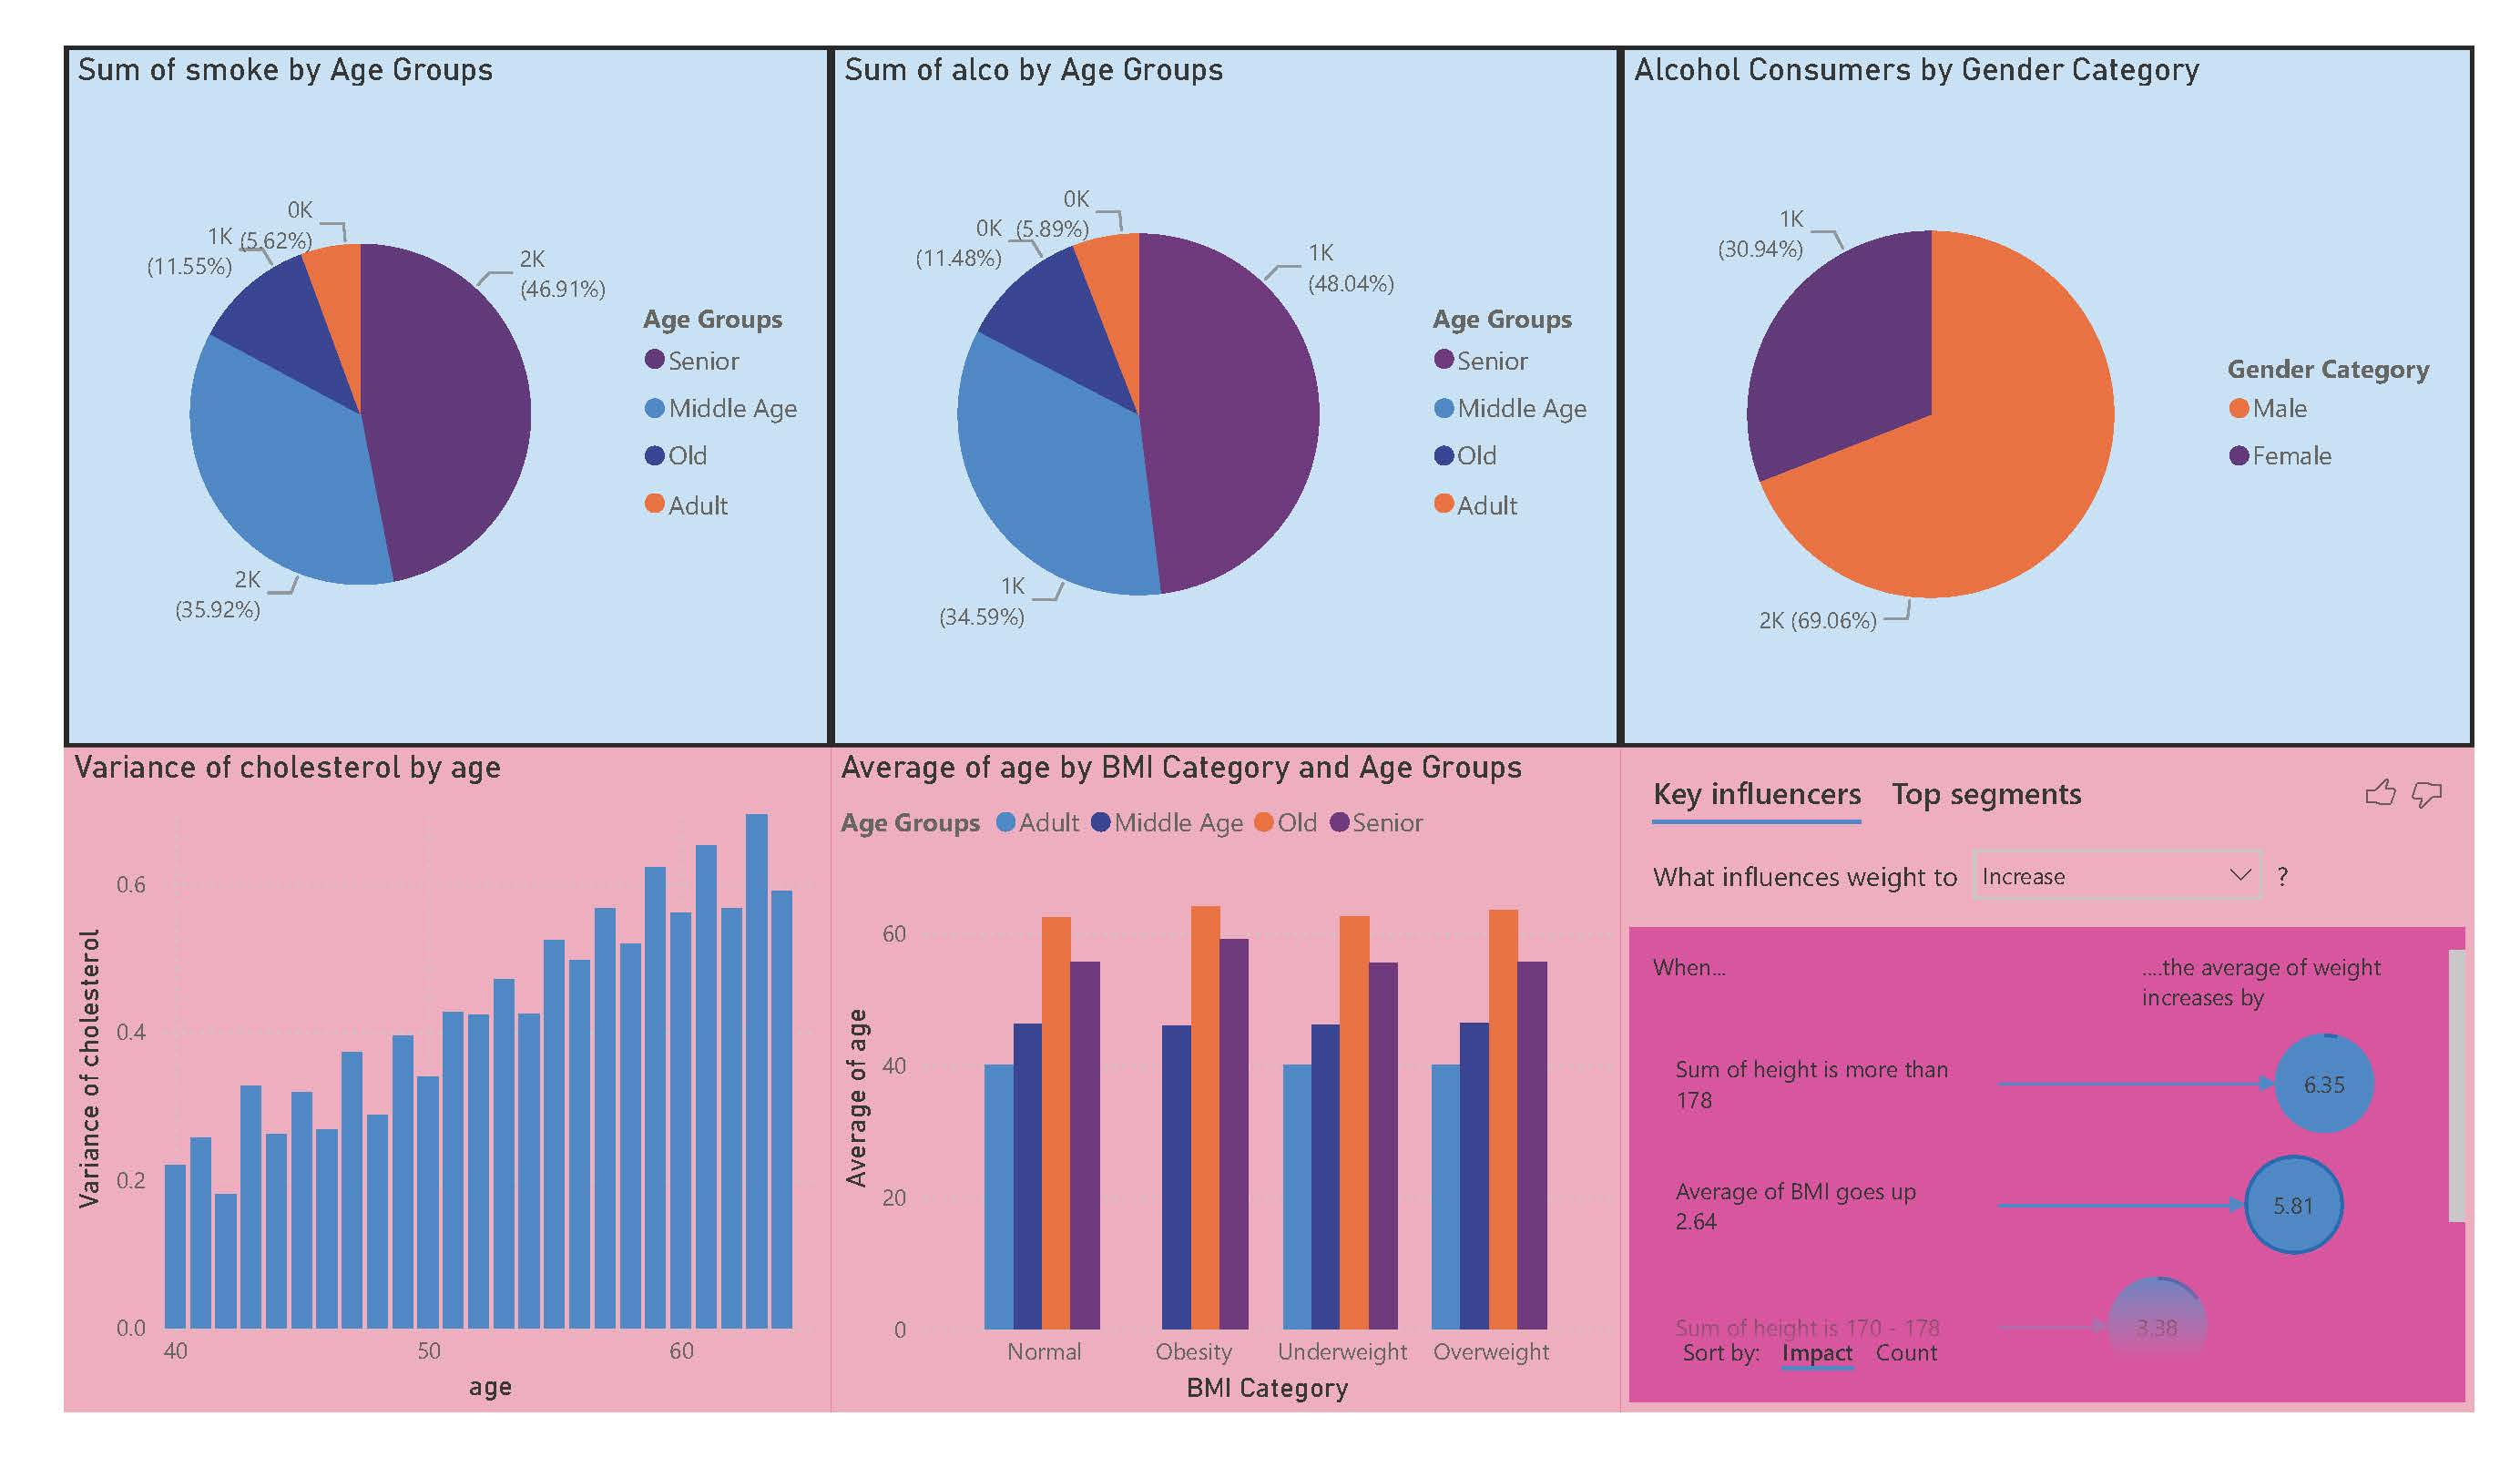

What the dashboard file says about the page in this screenshot:
{"tool":"powerbi","page":{"name":"Page 1","canvas":[1280,720],"ordinal":0},"visuals":[{"type":"pieChart","fields":{"Category":["cardio_df (1).Age Groups"],"Y":["Sum(cardio_df (1).smoke)"]},"box":[9.6,0,404.8,370.5],"z":0},{"type":"clusteredColumnChart","fields":{"Y":["Sum(cardio_df (1).cholesterol)"],"Category":["cardio_df (1).age"]},"box":[10,370,404.4,350],"z":1000},{"type":"pieChart","fields":{"Category":["cardio_df (1).Age Groups"],"Y":["Sum(cardio_df (1).alco)"]},"box":[414.4,0,415.8,370.5],"z":2000},{"type":"pieChart","fields":{"Category":["cardio_df (1).Gender Category"],"Y":["Sum(cardio_df (1).alco)"]},"box":[830.2,0,450.1,370.5],"z":3000},{"type":"clusteredColumnChart","fields":{"Category":["cardio_df (1).Custom"],"Series":["cardio_df (1).Age Groups"],"Y":["Sum(cardio_df (1).alco)"]},"box":[414.4,370.5,415.8,349.9],"z":4000},{"type":"keyDriversVisual","fields":{"ExplainBy":["cardio_df (1).weight","cardio_df (1).Gender Category","cardio_df (1).Age Groups"],"Target":["cardio_df (1).ap_hi"]},"box":[830.2,370.5,450.1,349.9],"z":5000}]}

Visuals, with their boxes in screenshot pixels (x1, y1, x2, y2):
pieChart - cardio_df (1).Age Groups x Sum(cardio_df (1).smoke): x1=64, y1=46, x2=831, y2=749
clusteredColumnChart - Sum(cardio_df (1).cholesterol) x cardio_df (1).age: x1=65, y1=748, x2=831, y2=1411
pieChart - cardio_df (1).Age Groups x Sum(cardio_df (1).alco): x1=831, y1=46, x2=1621, y2=749
pieChart - cardio_df (1).Gender Category x Sum(cardio_df (1).alco): x1=1621, y1=46, x2=2474, y2=749
clusteredColumnChart - cardio_df (1).Custom x cardio_df (1).Age Groups: x1=831, y1=749, x2=1621, y2=1411
keyDriversVisual - cardio_df (1).weight x cardio_df (1).Gender Category: x1=1621, y1=749, x2=2474, y2=1411
